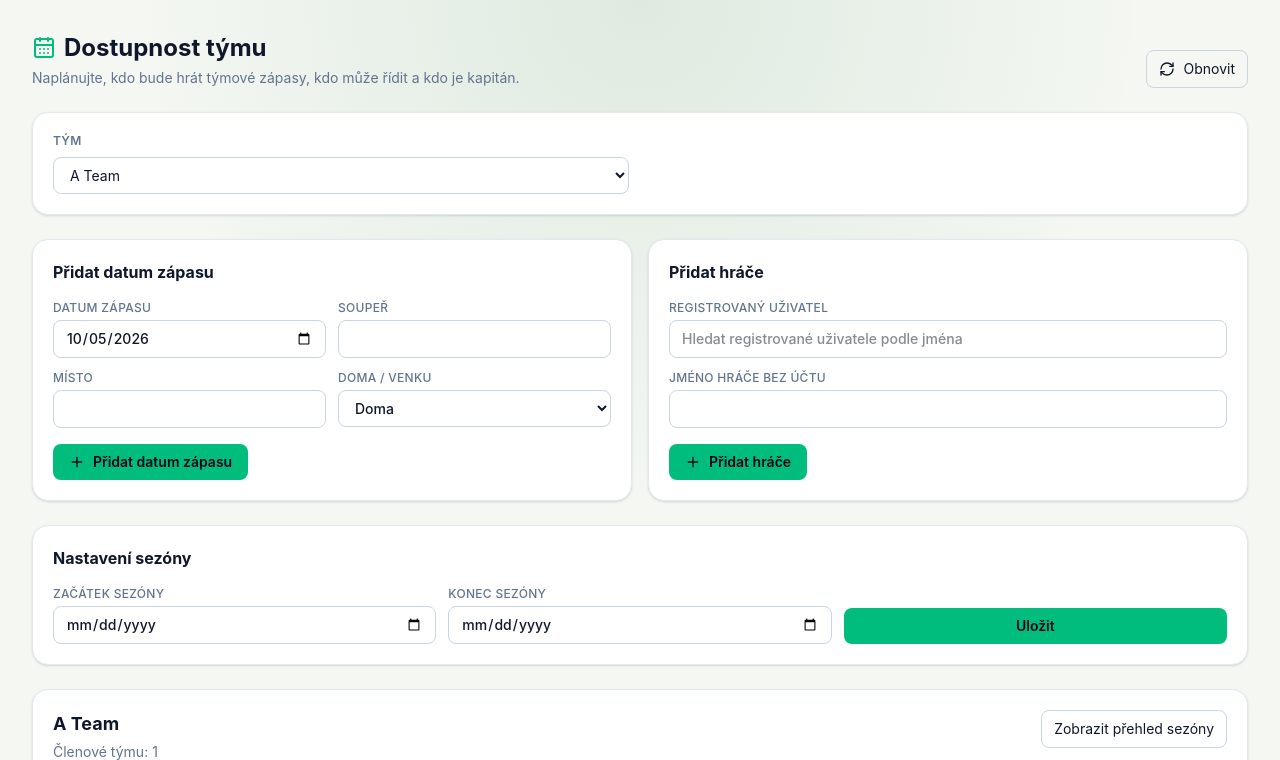
TeamAvailabilityView › shows registered player results for a one-letter query
Type "A" into the search field labelled "Registrovaný uživatel" at (948, 339), box [669,320,1227,358]
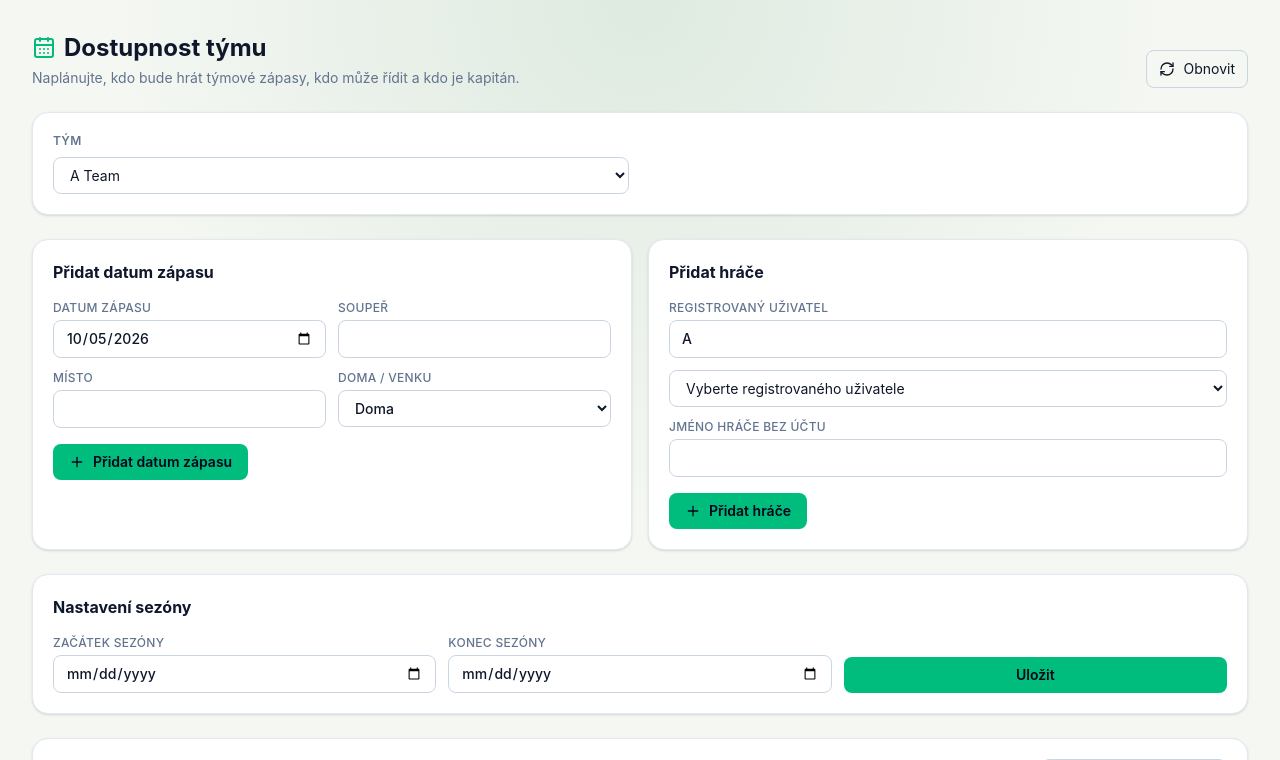
Expected: the search field labelled "Registrovaný uživatel" is expanded, [669,320,1227,358]
Expected: the dropdown with id "team-availability-player-results" is shown, [669,370,1227,407]
